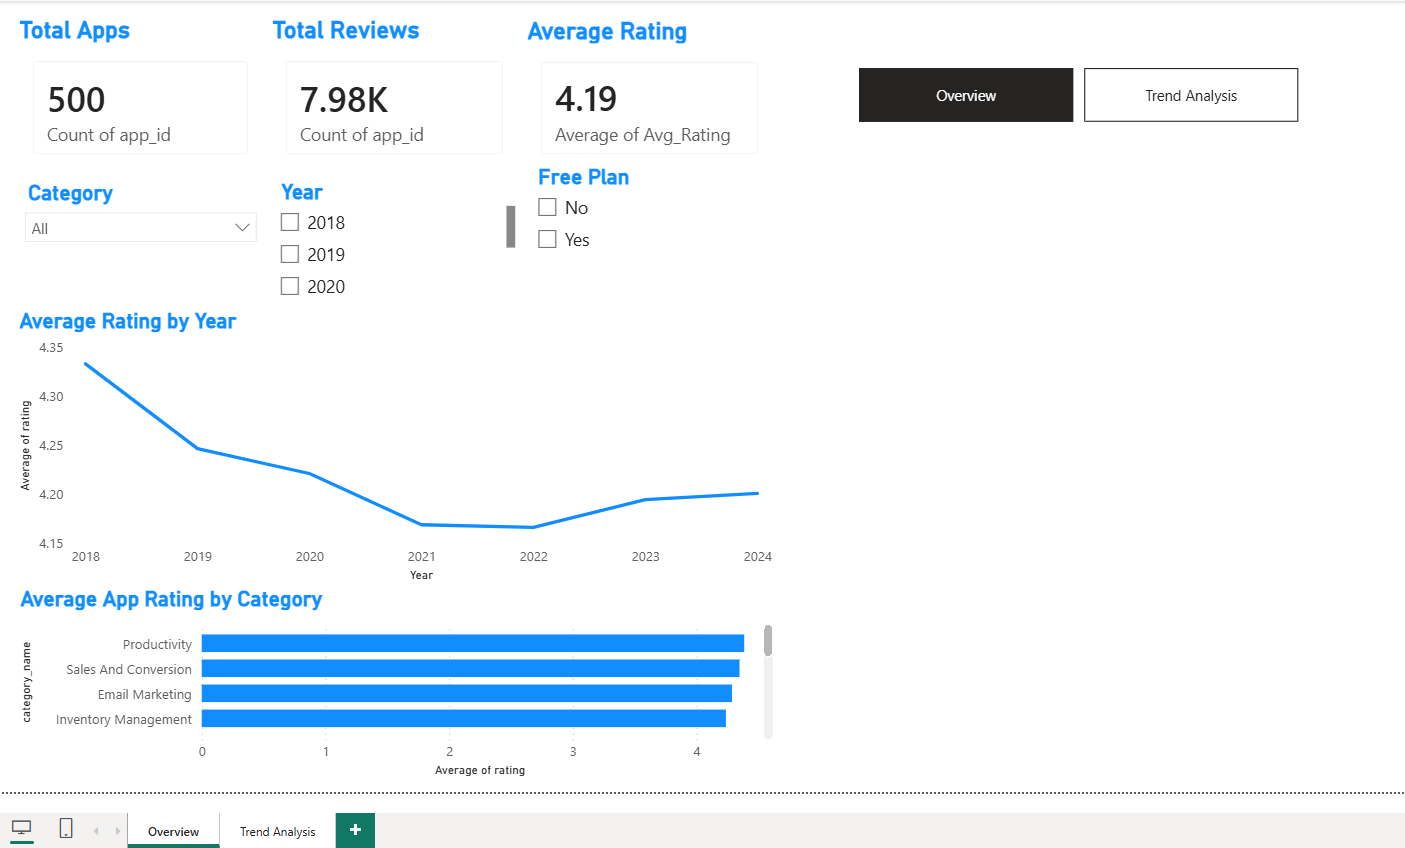

The page's visual inventory and layout, read from the dashboard file:
{"tool":"powerbi","page":{"name":"Overview","canvas":[1280,720],"ordinal":0},"visuals":[{"type":"cardVisual","title":"Total Apps","fields":{"Data":["Count(apps.app_id)"]},"box":[12.6,13.6,230.5,144],"z":0},{"type":"cardVisual","title":"Total Reviews","fields":{"Data":["CountNonNull(reviews.app_id)"]},"box":[243.3,14.1,232.3,143.8],"z":1000},{"type":"cardVisual","title":"Average Rating","fields":{"Data":["Avg(reviews.Avg_Rating)"]},"box":[475.6,14.5,232.6,142.7],"z":2000},{"type":"slicer","fields":{"Values":["apps.category_name"]},"box":[12.4,158.2,230.6,121],"z":3000},{"type":"slicer","fields":{"Values":["dim_date.Year"]},"box":[243,157.2,230.6,122],"z":4000},{"type":"slicer","fields":{"Values":["apps.has_free_plan"]},"box":[476.6,143.7,230.6,135.4],"z":5000},{"type":"lineChart","title":"Average Rating by Year","fields":{"Y":["Avg(reviews.rating)"],"Category":["dim_date.Year"]},"box":[12.4,279.2,694.8,253.3],"z":6000},{"type":"barChart","title":"Average App Rating by Category","fields":{"Category":["apps.category_name"],"Y":["Avg(reviews.rating)"]},"box":[13.4,532.5,694.8,177.8],"z":7000},{"type":"pageNavigator","box":[781.6,61,400.1,49.6],"z":8000}]}

Visuals, with their boxes on the page's 1280x720 design canvas (x1, y1, x2, y2). These are canvas units, not pixel positions in the 1405x848 screenshot, which may show the page scaled, cropped or inside an application window:
"Total Apps" cardVisual: [x1=13, y1=14, x2=243, y2=158]
"Total Reviews" cardVisual: [x1=243, y1=14, x2=476, y2=158]
"Average Rating" cardVisual: [x1=476, y1=14, x2=708, y2=157]
slicer - apps.category_name: [x1=12, y1=158, x2=243, y2=279]
slicer - dim_date.Year: [x1=243, y1=157, x2=474, y2=279]
slicer - apps.has_free_plan: [x1=477, y1=144, x2=707, y2=279]
"Average Rating by Year" lineChart: [x1=12, y1=279, x2=707, y2=532]
"Average App Rating by Category" barChart: [x1=13, y1=532, x2=708, y2=710]
pageNavigator: [x1=782, y1=61, x2=1182, y2=111]
